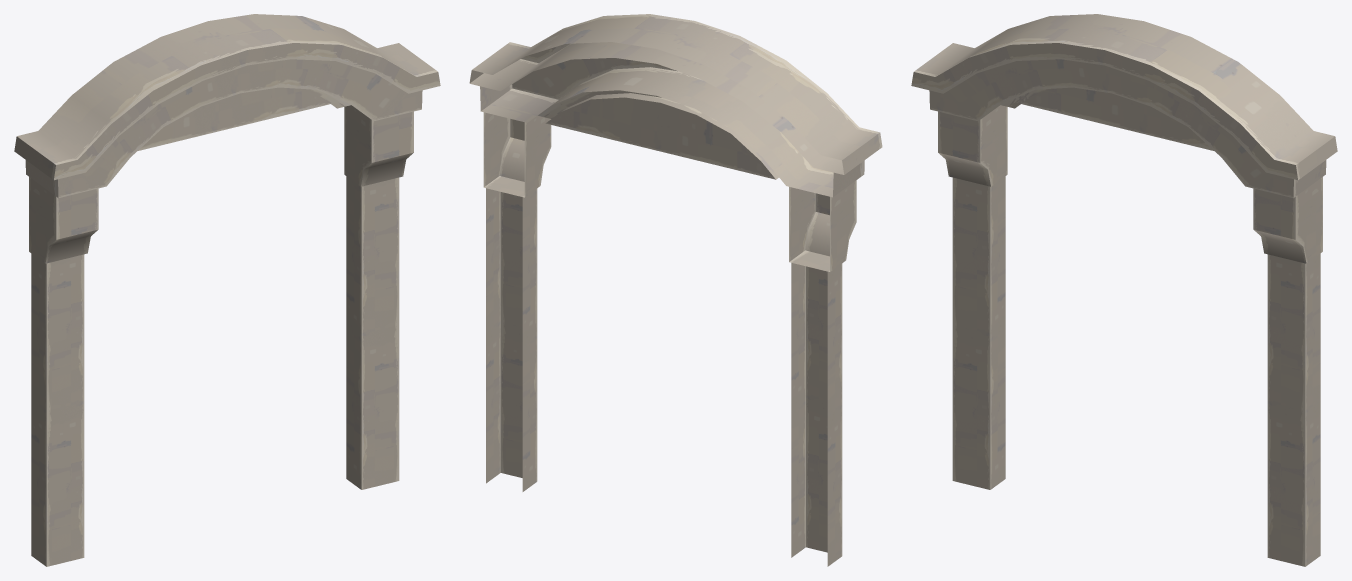
Rendered from MOD_Door_03_framedeco_01_01.fbx.
The picture shows the model from 3 angles, left to right: view 1: azimuth 30°, elevation 25°; view 2: azimuth 150°, elevation 25°; view 3: azimuth 330°, elevation 25°; orthographic projection. The views are drawn at different scales.
Visible parts, largest first — view 1: MOD_Door_03_framedeco_01_01; view 2: MOD_Door_03_framedeco_01_01; view 3: MOD_Door_03_framedeco_01_01.
Part boxes in pixels (left/top/right/bottom): MOD_Door_03_framedeco_01_01: left=14, top=14, right=440, bottom=566; MOD_Door_03_framedeco_01_01: left=469, top=14, right=882, bottom=566; MOD_Door_03_framedeco_01_01: left=911, top=14, right=1337, bottom=566.
Size of the model in its own units: 275 by 334 by 48.61.
